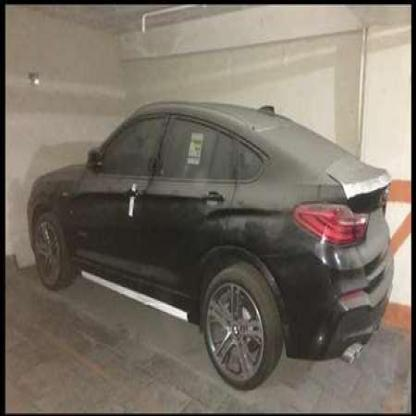Car: (28, 97, 386, 379)
